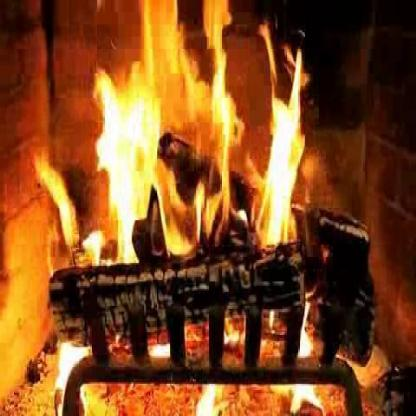fire: (5, 7, 395, 404)
